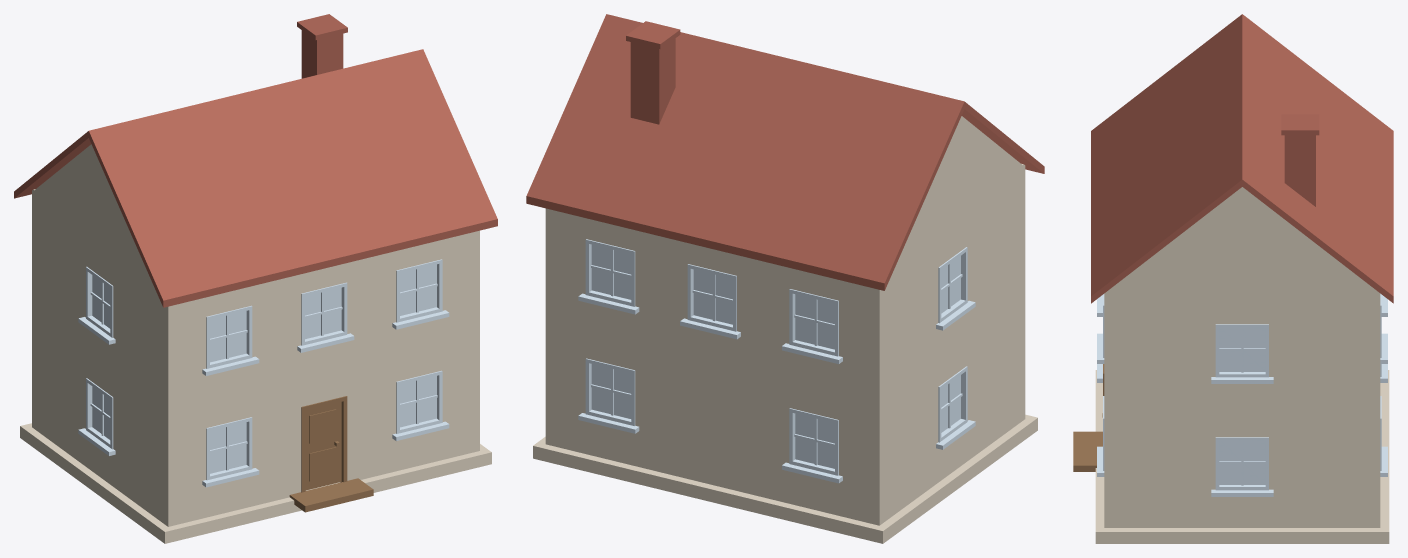
File: house.glb
The picture shows the model from 3 angles, left to right: view 1: azimuth 30°, elevation 25°; view 2: azimuth 150°, elevation 25°; view 3: azimuth 270°, elevation 25°; orthographic projection. The views are drawn at different scales.
Visible parts, largest first — view 1: walls, roof, windows, door; view 2: walls, roof, windows; view 3: walls, roof, windows, door.
Part boxes in pixels (bbox=[...]): walls: bbox=[20, 144, 491, 543]; roof: bbox=[14, 14, 497, 307]; windows: bbox=[78, 259, 449, 487]; door: bbox=[289, 396, 373, 512]; walls: bbox=[533, 116, 1037, 543]; roof: bbox=[526, 14, 1044, 290]; windows: bbox=[578, 239, 975, 483]; walls: bbox=[1095, 187, 1389, 543]; roof: bbox=[1091, 14, 1393, 303]; windows: bbox=[1097, 293, 1387, 496]; door: bbox=[1073, 364, 1104, 471].
Size of the model in its own units: 8.8 by 9.61 by 7.2.
